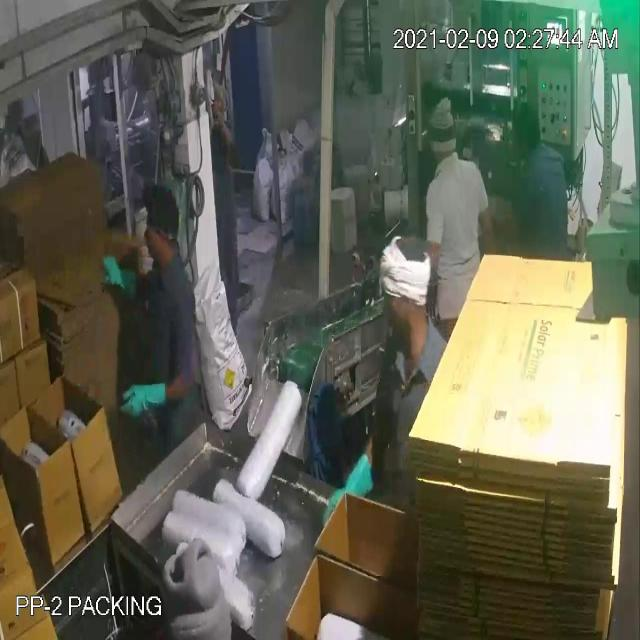gloves: (321, 457, 375, 531), (96, 243, 146, 310), (116, 371, 180, 421)
no-gloves: (218, 109, 235, 170)
